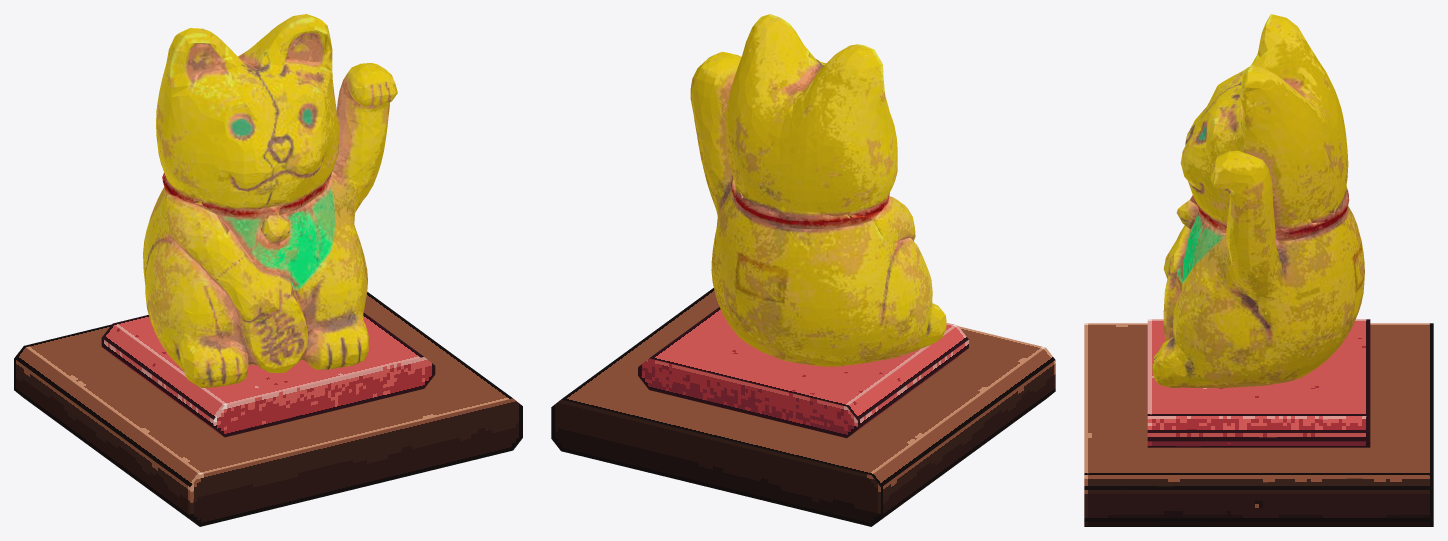
The model's file is goldneko.glb.
3 renders of one model, left to right at view 1: azimuth 30°, elevation 25°; view 2: azimuth 150°, elevation 25°; view 3: azimuth 270°, elevation 25°, orthographic.
Visible parts, largest first — view 1: model_m, base, cushion; view 2: model_m, base, cushion; view 3: model_m, base, cushion.
Part boxes in pixels (box(x1,y1,x2,y2)): model_m: box(143, 14, 397, 387); base: box(14, 292, 522, 526); cushion: box(101, 313, 435, 437); model_m: box(690, 14, 946, 366); base: box(551, 288, 1055, 526); cushion: box(638, 307, 968, 438); model_m: box(1152, 14, 1364, 388); base: box(1084, 323, 1433, 526); cushion: box(1147, 319, 1370, 447).
Size of the model in its own units: 24 by 27.8 by 22.
Materials: 2 (2 with a texture image).
